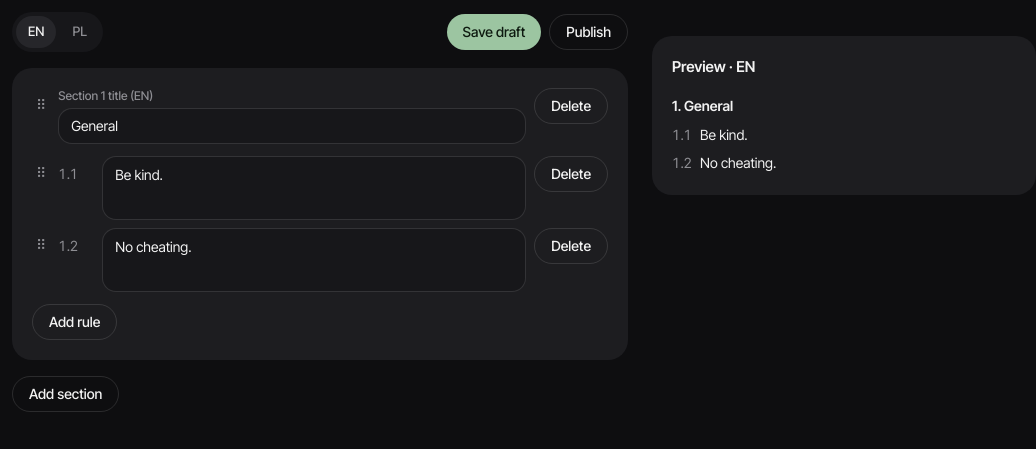
Test: RulesEditor › the preview follows the language tab, there and back
Check: the field named "Rule 1.1 (EN)" is shown, box [102,156,526,220]
Check: the text "Be kind." is shown, box [700,124,748,146]
Press the mouse on the tab "PL" at x=80, y=32, box [60,16,99,48]
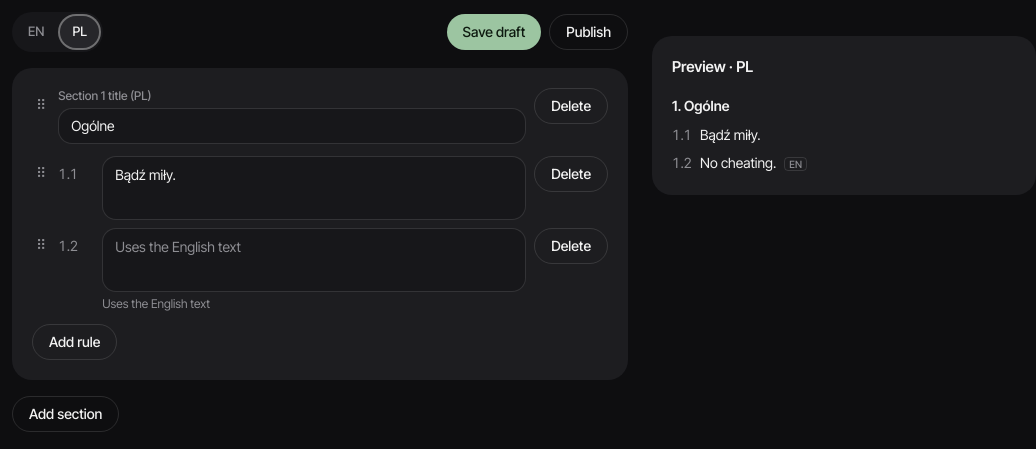
Check: the text "Bądź miły." is shown, box [700,124,760,146]
Press the mouse on the tab "EN" at x=36, y=32, box [16,16,56,48]
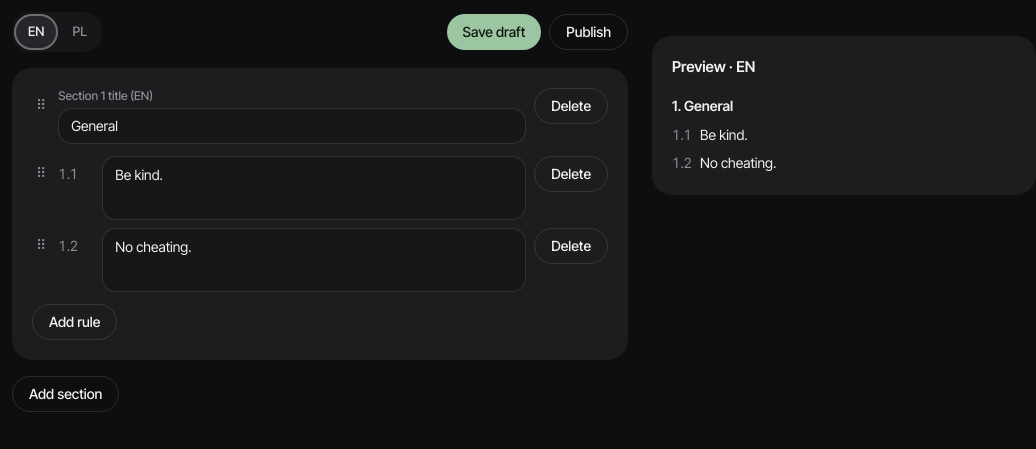
Check: the text "Be kind." is shown, box [700,124,748,146]
